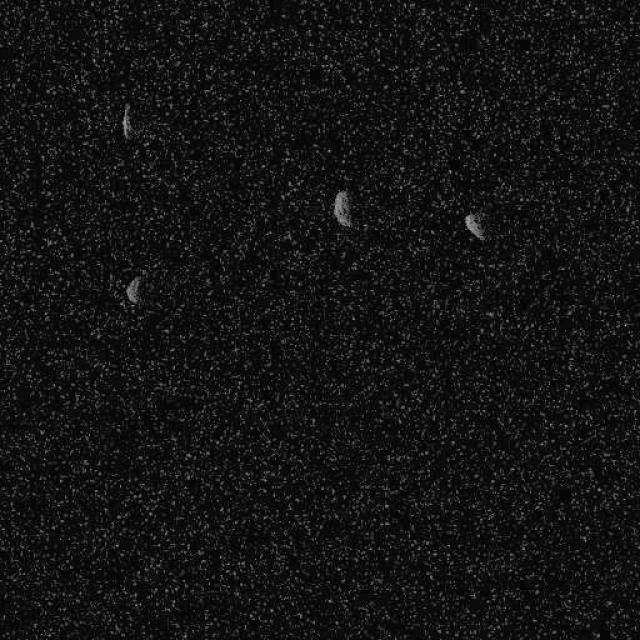D2: (331, 188, 354, 228), (462, 211, 487, 240), (120, 101, 135, 140), (124, 274, 142, 305)
